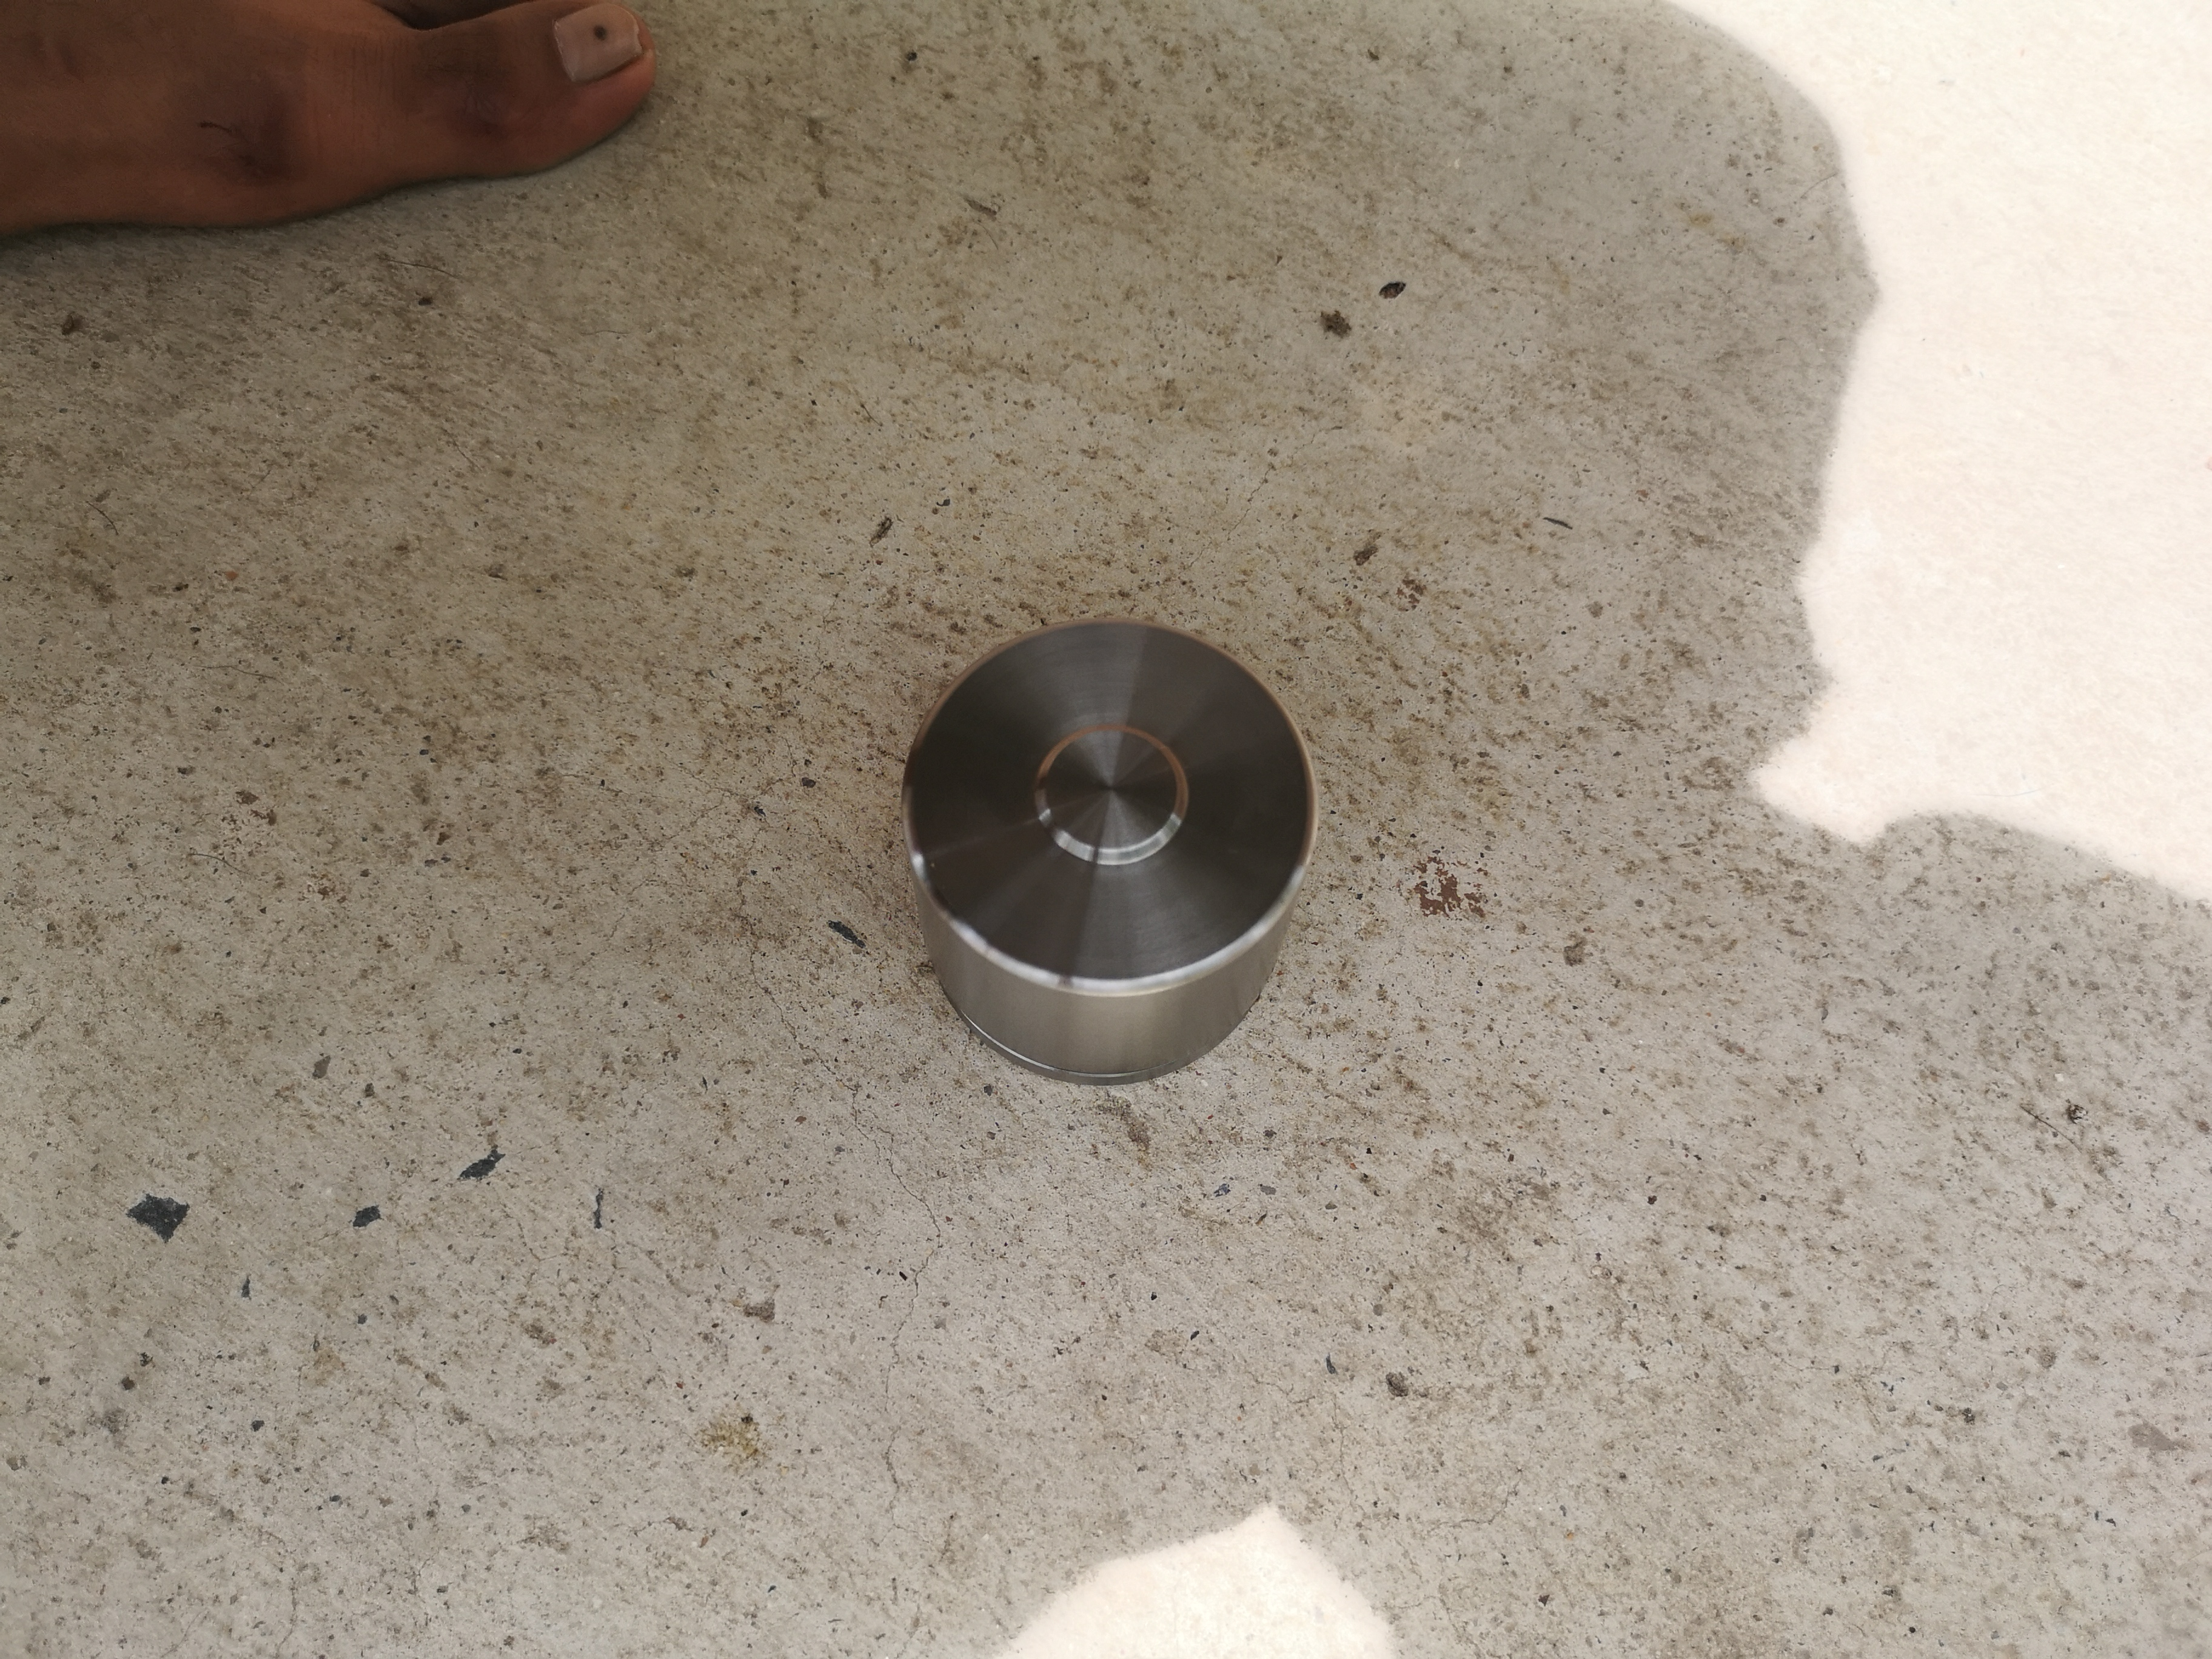ลูกสูบดิสเบรค: (853, 599, 1362, 1107)
